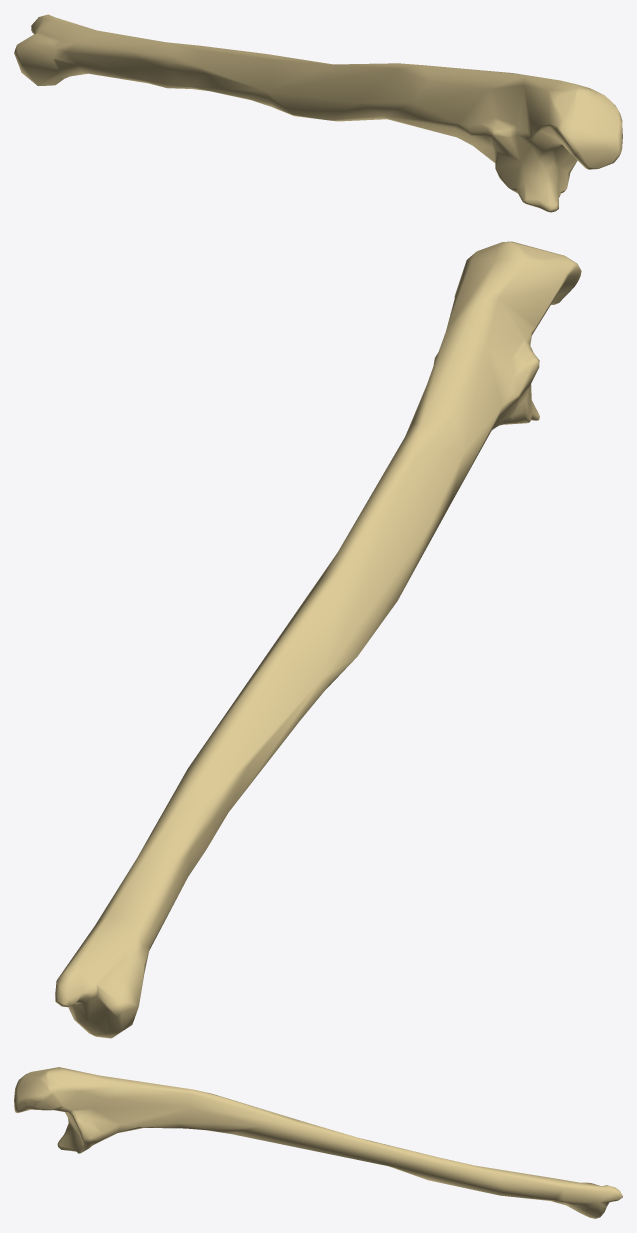
3 views of the same model, one above another, from view 1: azimuth 30°, elevation 25°; view 2: azimuth 150°, elevation 25°; view 3: azimuth 270°, elevation 25° (orthographic). The views are drawn at different scales.
Parts seen in each view (by area): view 1: 右侧尺骨; view 2: 右侧尺骨; view 3: 右侧尺骨.
Part boxes in pixels (x1,y1,x2,y2): 右侧尺骨: (14,14,622,212); 右侧尺骨: (55,241,581,1038); 右侧尺骨: (14,1067,622,1218).
Bounding box in the file's own units: 0.0772 × 0.1226 × 0.3764.
